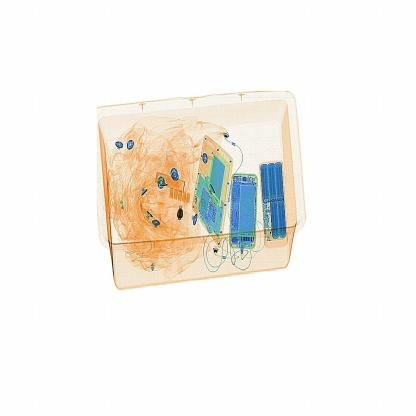wrench: (167, 198, 193, 223)
